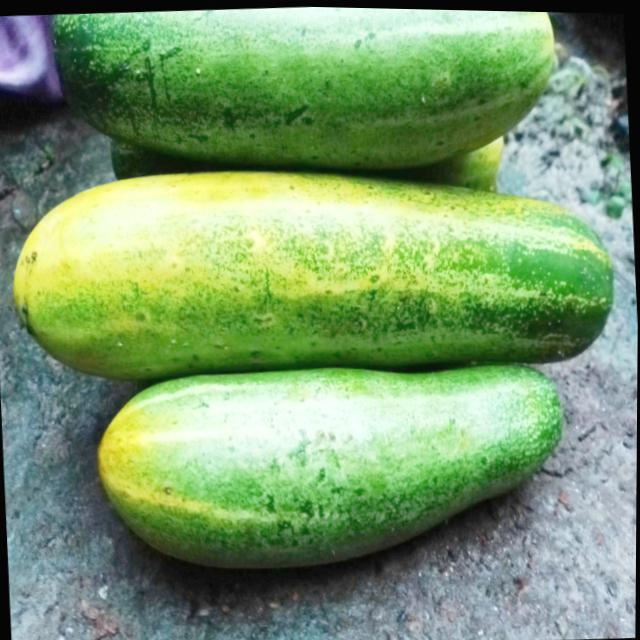Fresh-Cucumber: (7, 138, 620, 386), (94, 349, 573, 568), (44, 1, 561, 175)
